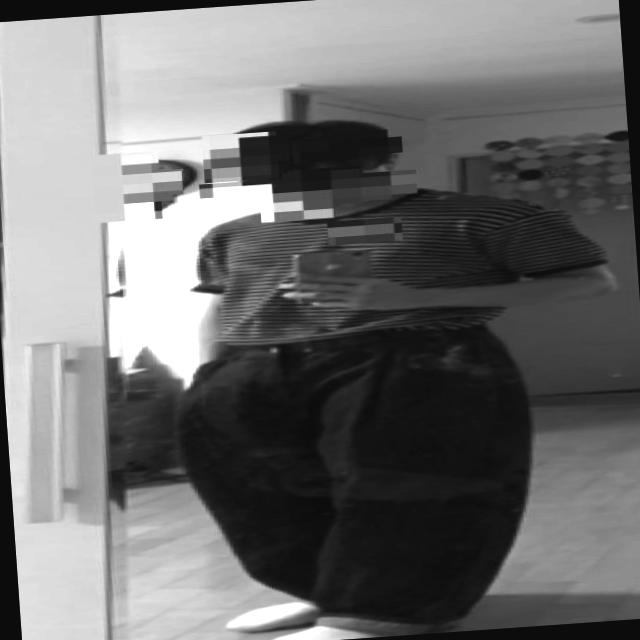denimpants: (178, 318, 544, 640)
shortsleeve: (178, 175, 615, 347)
